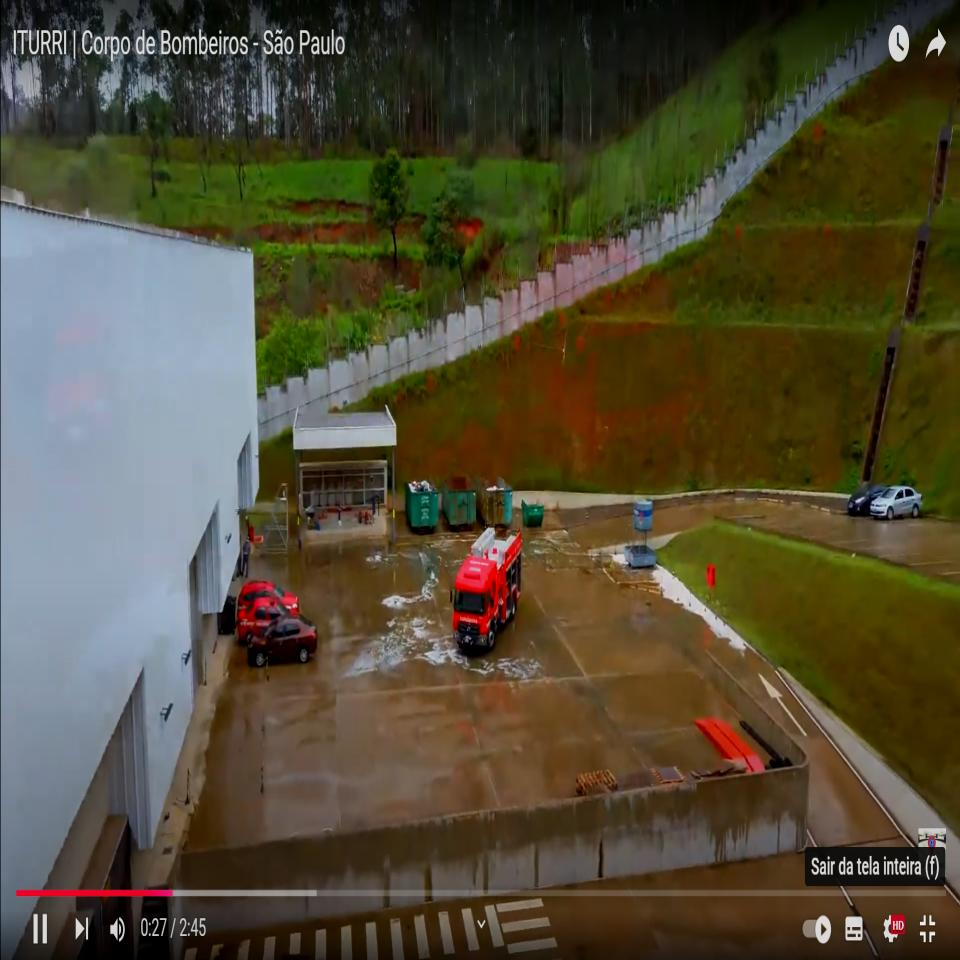bombeiro: (449, 526, 522, 654)
